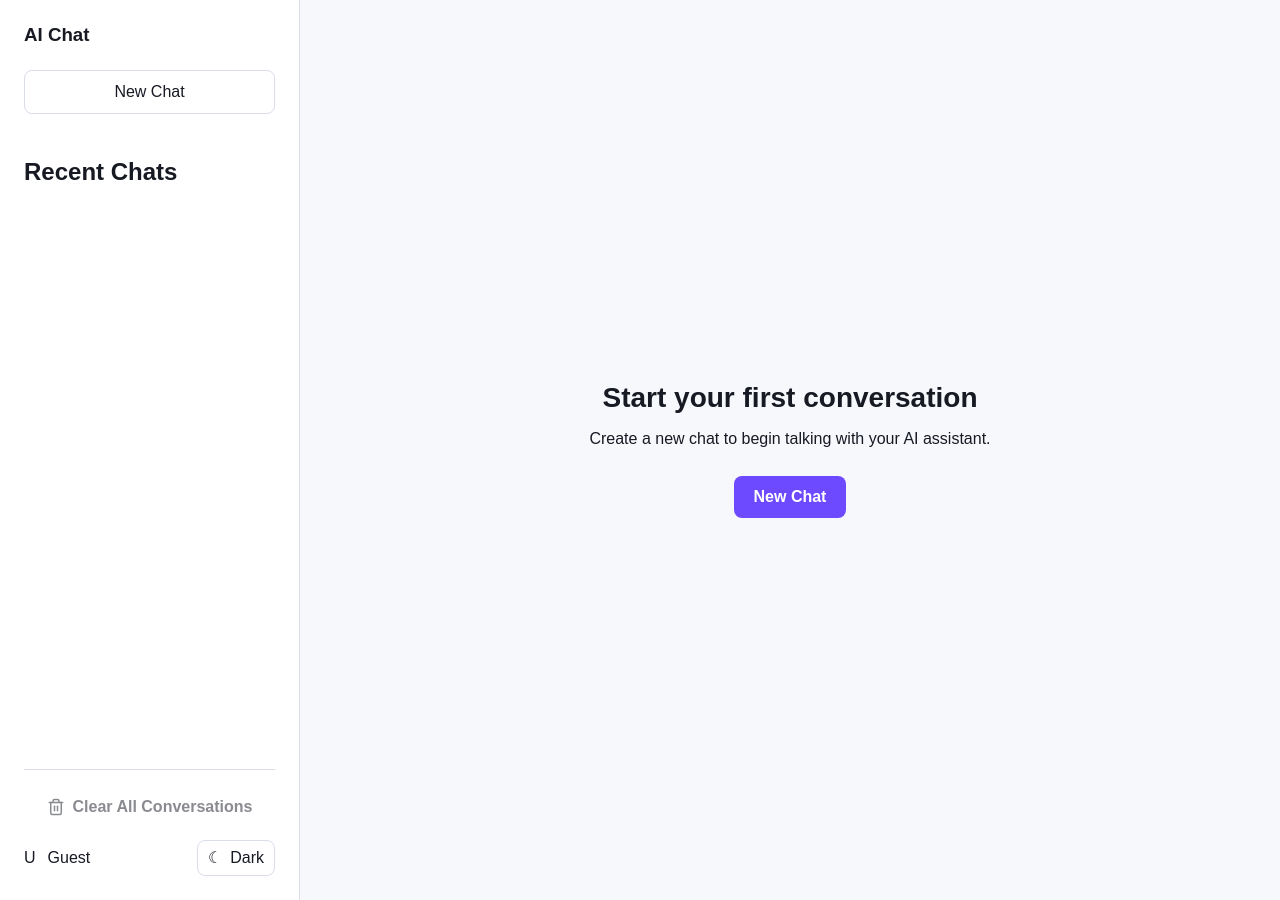
Test: AppLayout › uses the first user message as the chat title
Click the button "New Chat" below "AI Chat" at (150, 92), box [24,70,275,114]
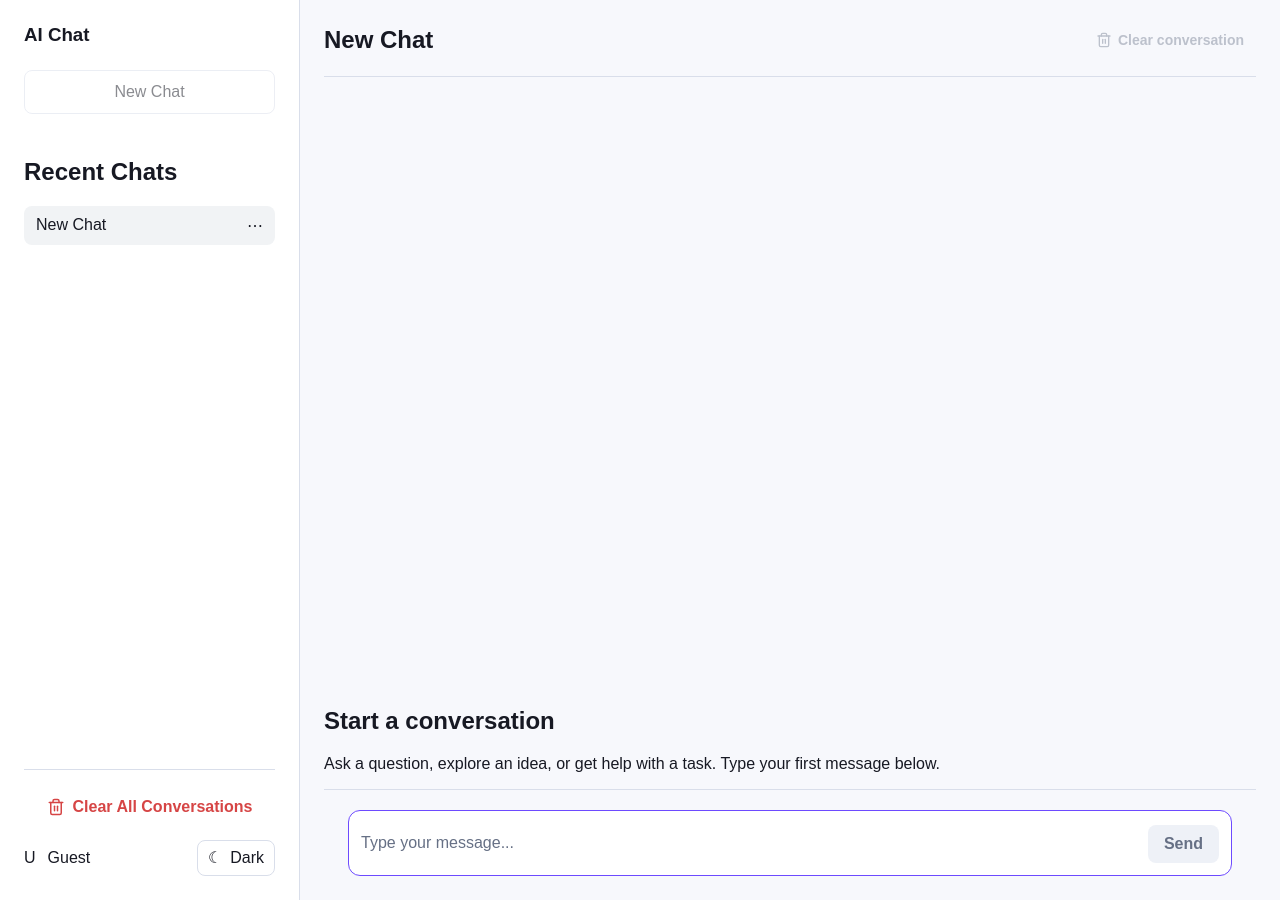
Type "My first conversation" into the text box labelled "message" at (748, 843), box [361,823,1136,863]
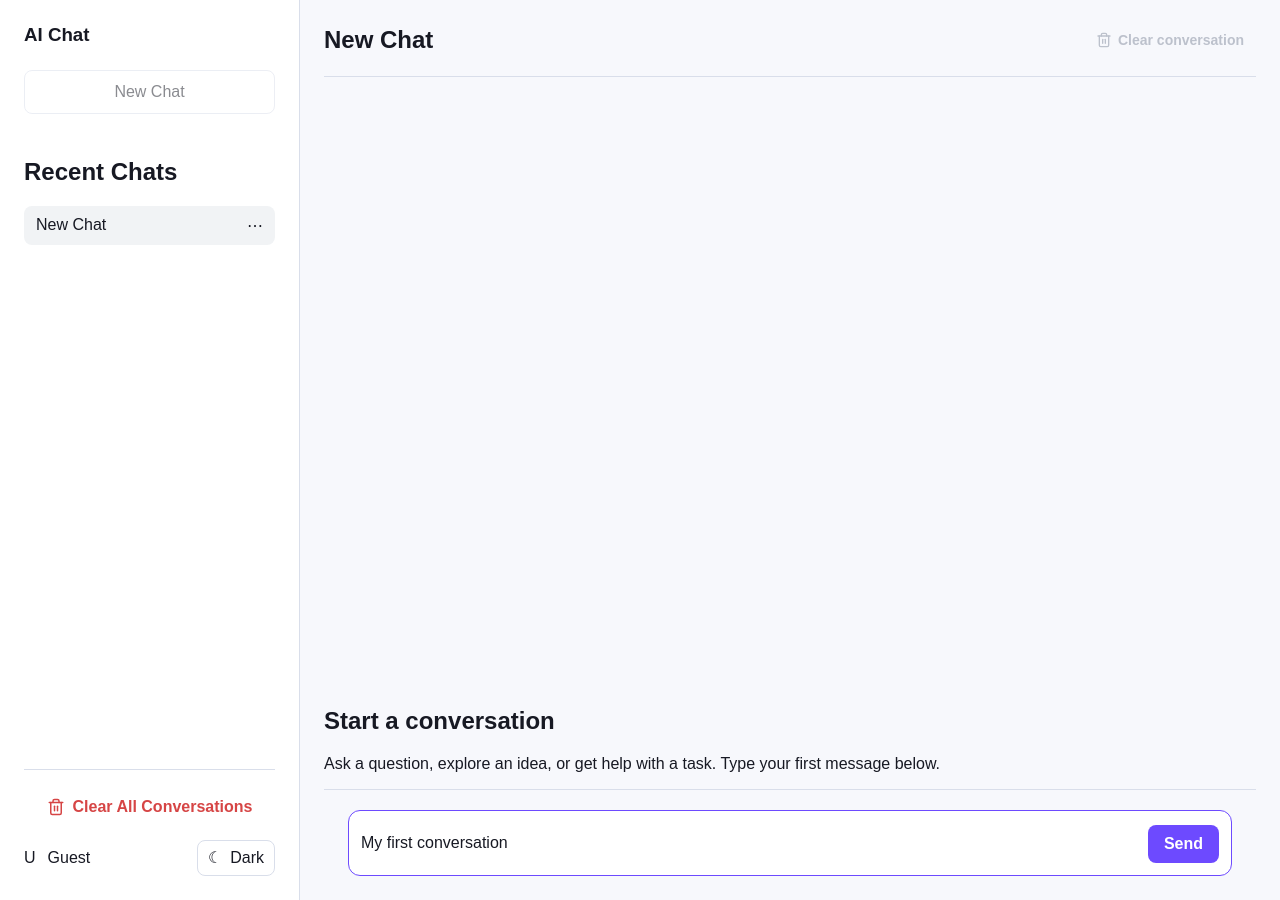
Click the button "Send" at (1183, 844), box [1148,825,1219,863]
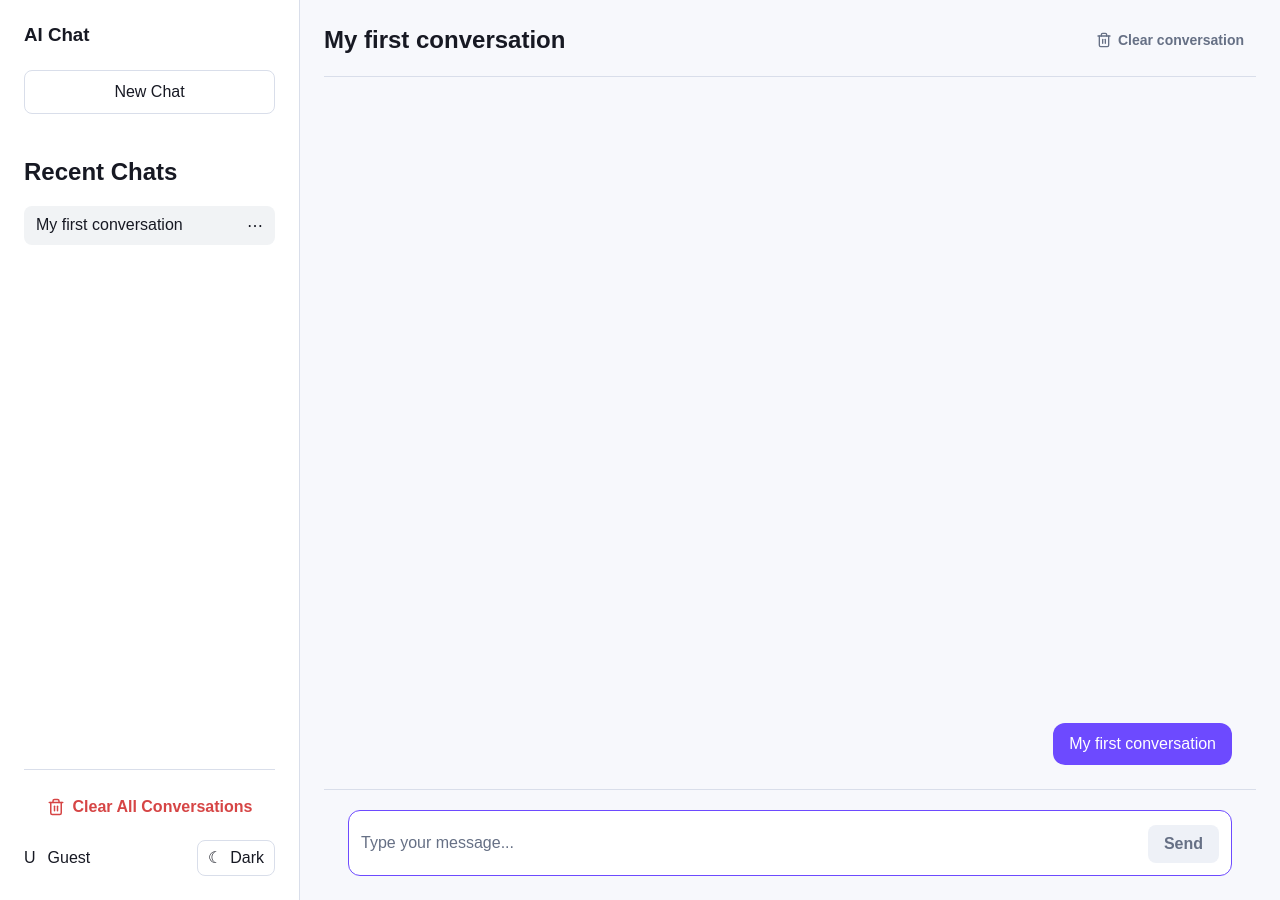
Result: the heading "My first conversation" is shown at [324,26,565,54]
